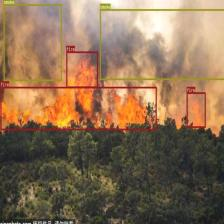fire: (0, 86, 156, 130), (66, 51, 98, 88), (186, 92, 206, 128)
smoke: (100, 9, 224, 79), (3, 4, 62, 81)
